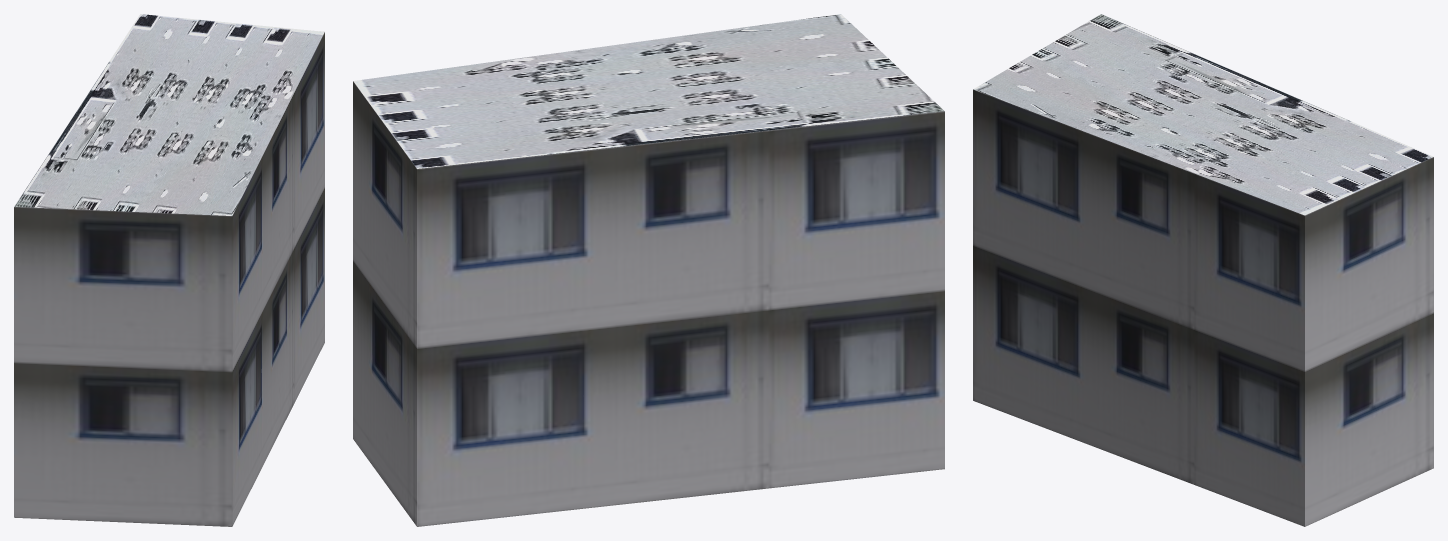
The model's file is ResTex__5033.fbx.
The picture shows the model from 3 angles, left to right: view 1: azimuth 30°, elevation 25°; view 2: azimuth 150°, elevation 25°; view 3: azimuth 270°, elevation 25°; orthographic projection. The views are drawn at different scales.
Parts seen in each view (by area): view 1: CityEngineMaterial_9_m, CityEngineMaterial_m; view 2: CityEngineMaterial_9_m, CityEngineMaterial_m; view 3: CityEngineMaterial_9_m, CityEngineMaterial_m.
Boxes of the visible parts, x1,y1,x2,y2 form: CityEngineMaterial_9_m: (14,32,324,526); CityEngineMaterial_m: (14,14,324,215); CityEngineMaterial_9_m: (353,81,944,526); CityEngineMaterial_m: (353,14,944,168); CityEngineMaterial_9_m: (973,89,1433,526); CityEngineMaterial_m: (973,14,1433,215).
Bounding box in the file's own units: 8.33 × 6 × 8.05.
2 materials, 2 textured.
